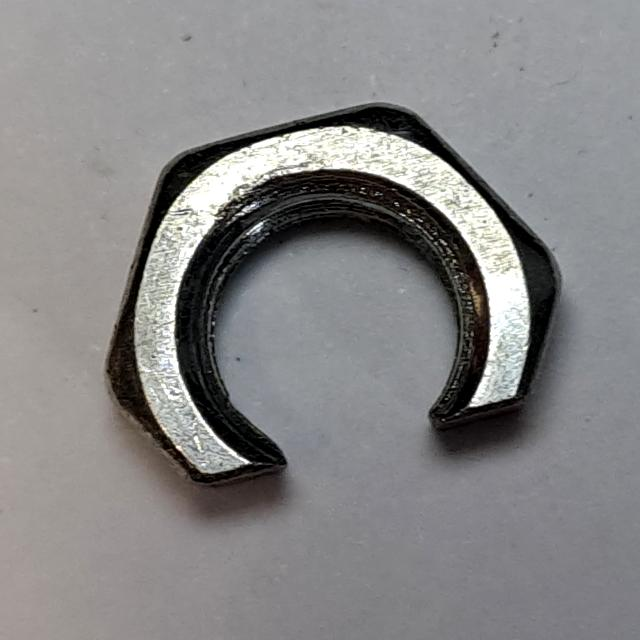Fracture: (85, 89, 573, 503)
